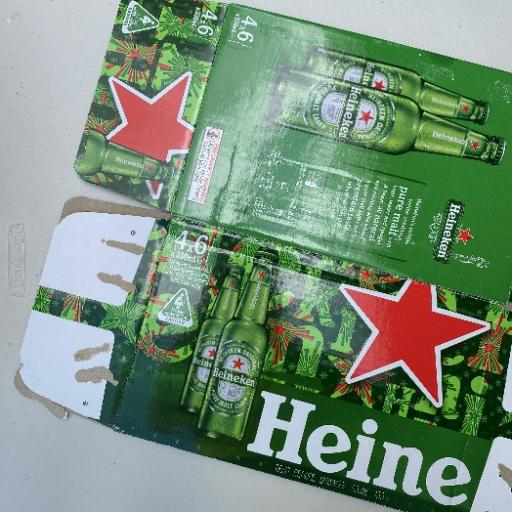Cardboard: (17, 2, 509, 509)
